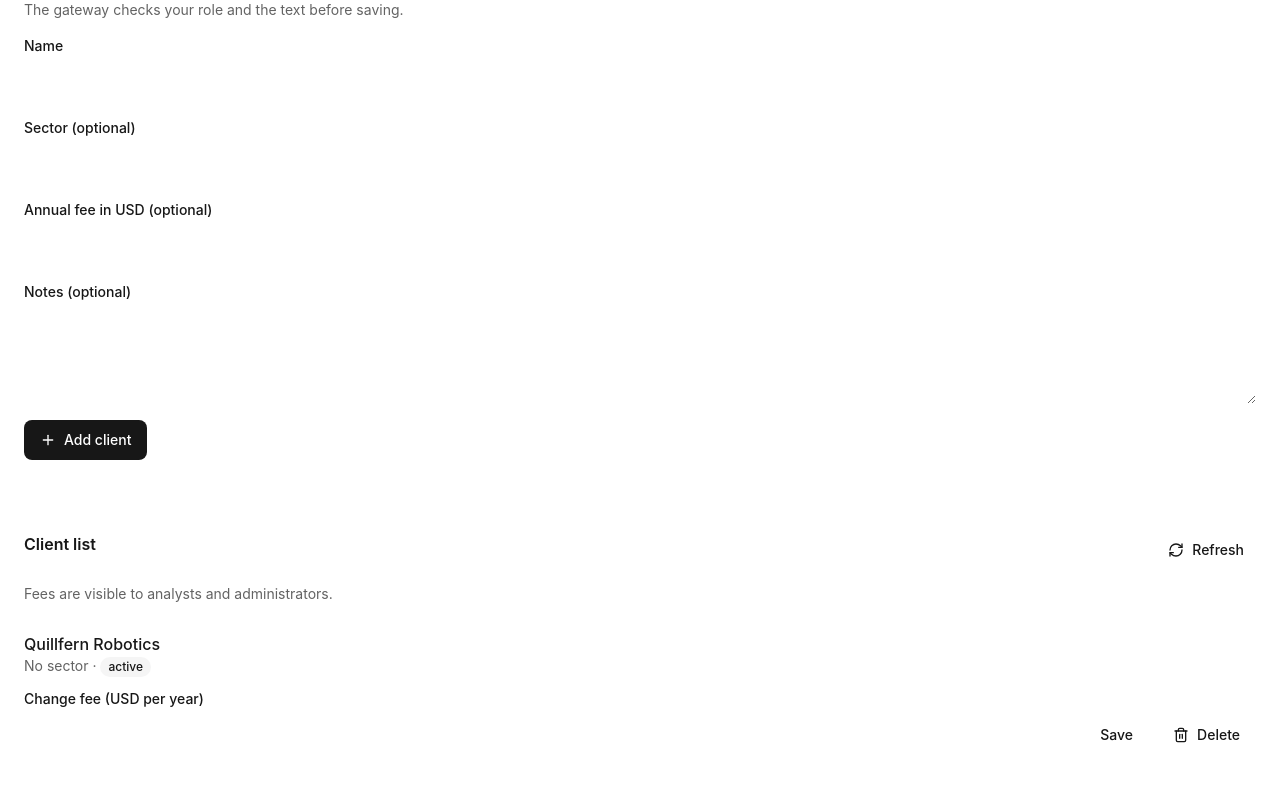
Test: ClientsPanel › shows Delete to every role and renders the BLOCK with its trace
The width and height of the screenshot is (1280, 795).
(page scrolled)
Step 1. Click the button "Delete" → click(1207, 735), box [1157, 715, 1256, 755]
(page scrolled)
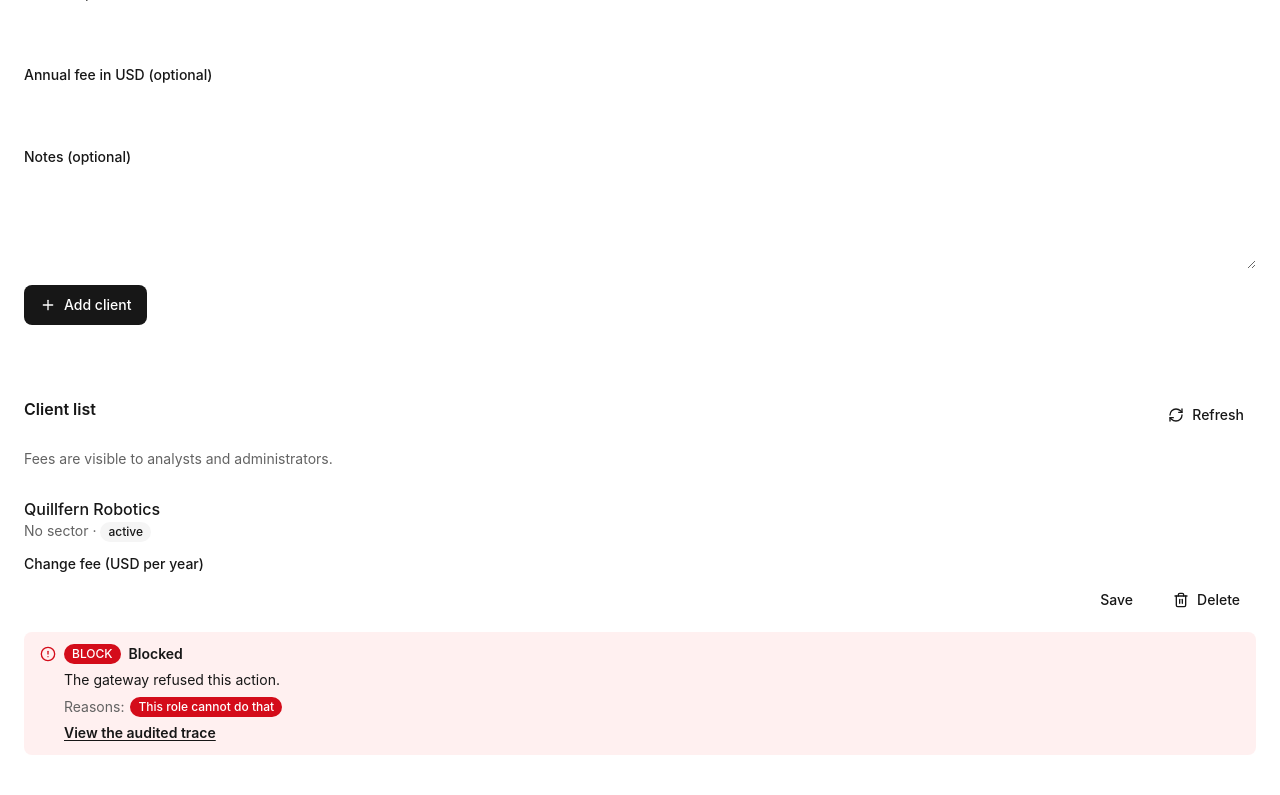
Expected: the text "Blocked" is shown, [129, 645, 183, 662]
